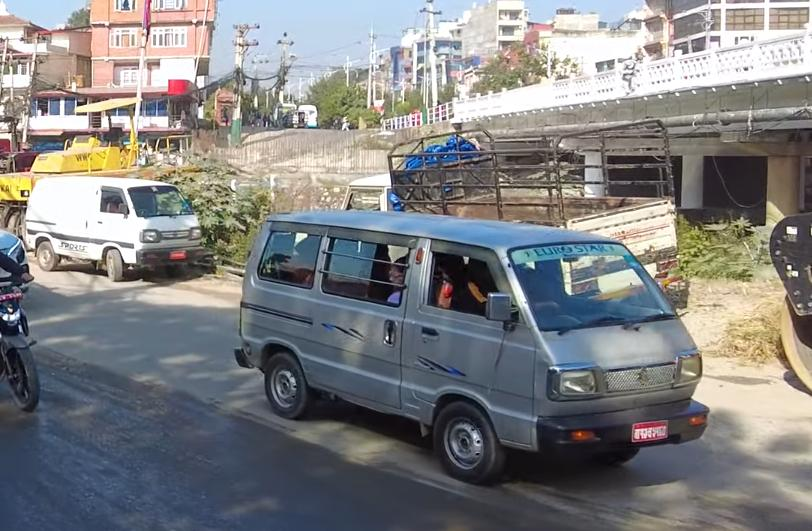bike: (0, 268, 41, 417)
van: (233, 198, 718, 485), (22, 164, 216, 285)
